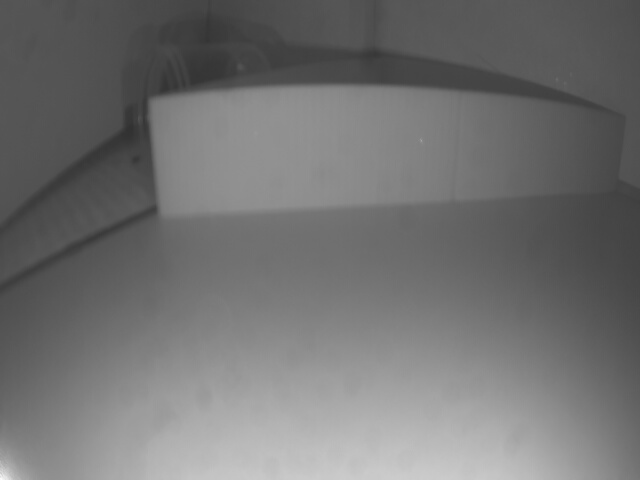Point: (151, 91, 622, 220)
